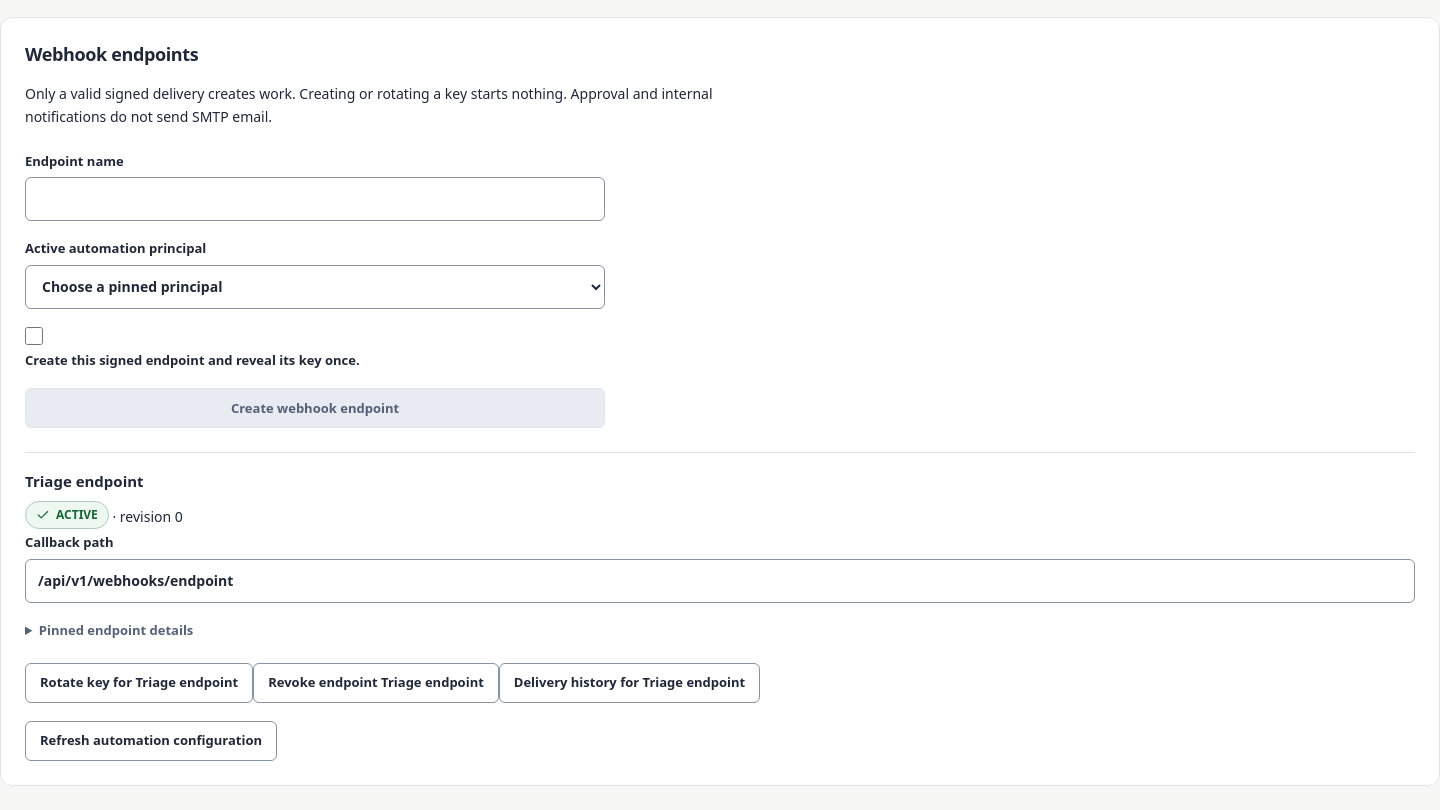
shows safe mutation failure without a key or success claim
(page scrolled)
Expected: the heading "Triage endpoint" is shown, [25,472,144,492]
Step 1. Click the button "Rotate key for Triage endpoint" → click(139, 683), box [25,663,253,703]
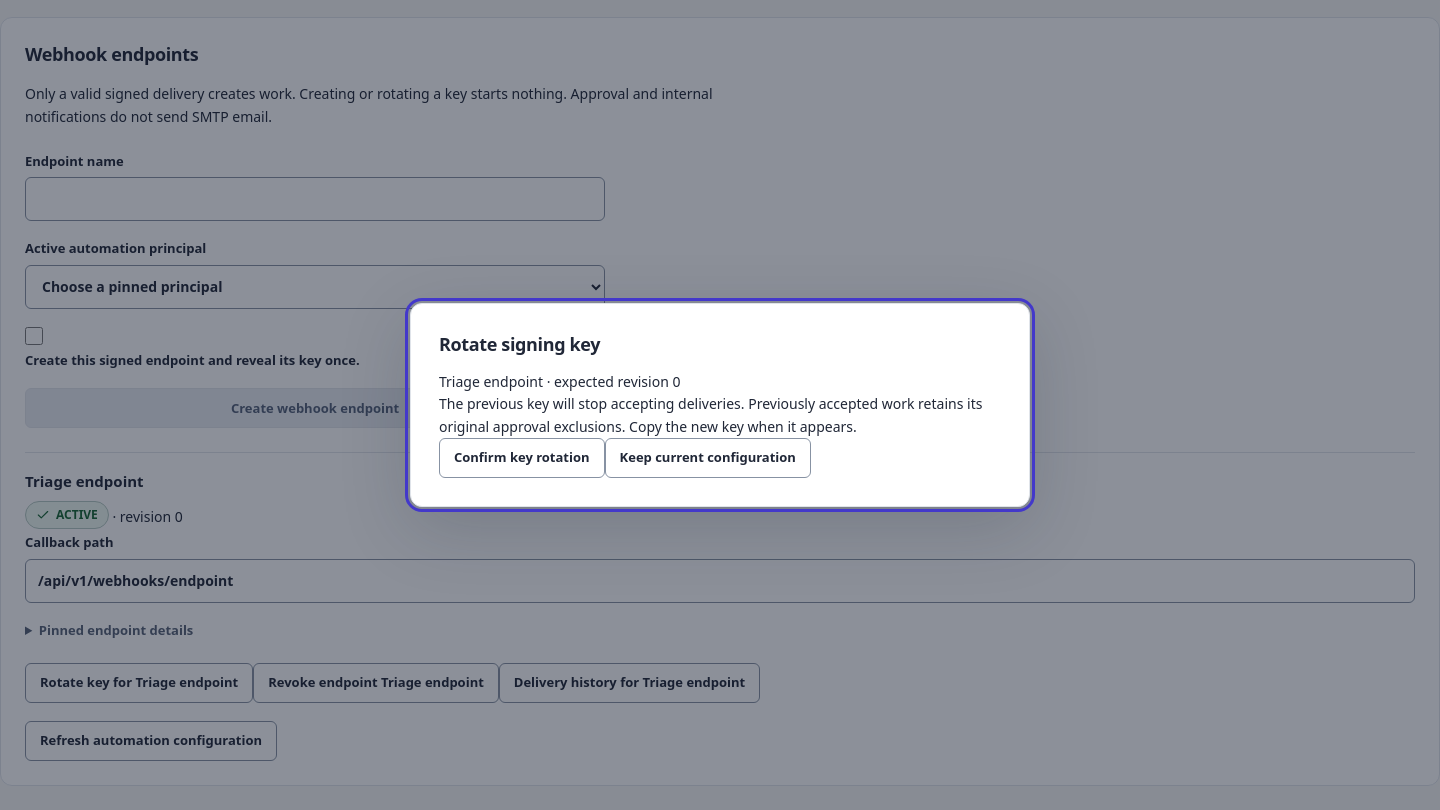
Step 2. Click the button "Confirm key rotation" → click(522, 458), box [439,438,605,478]
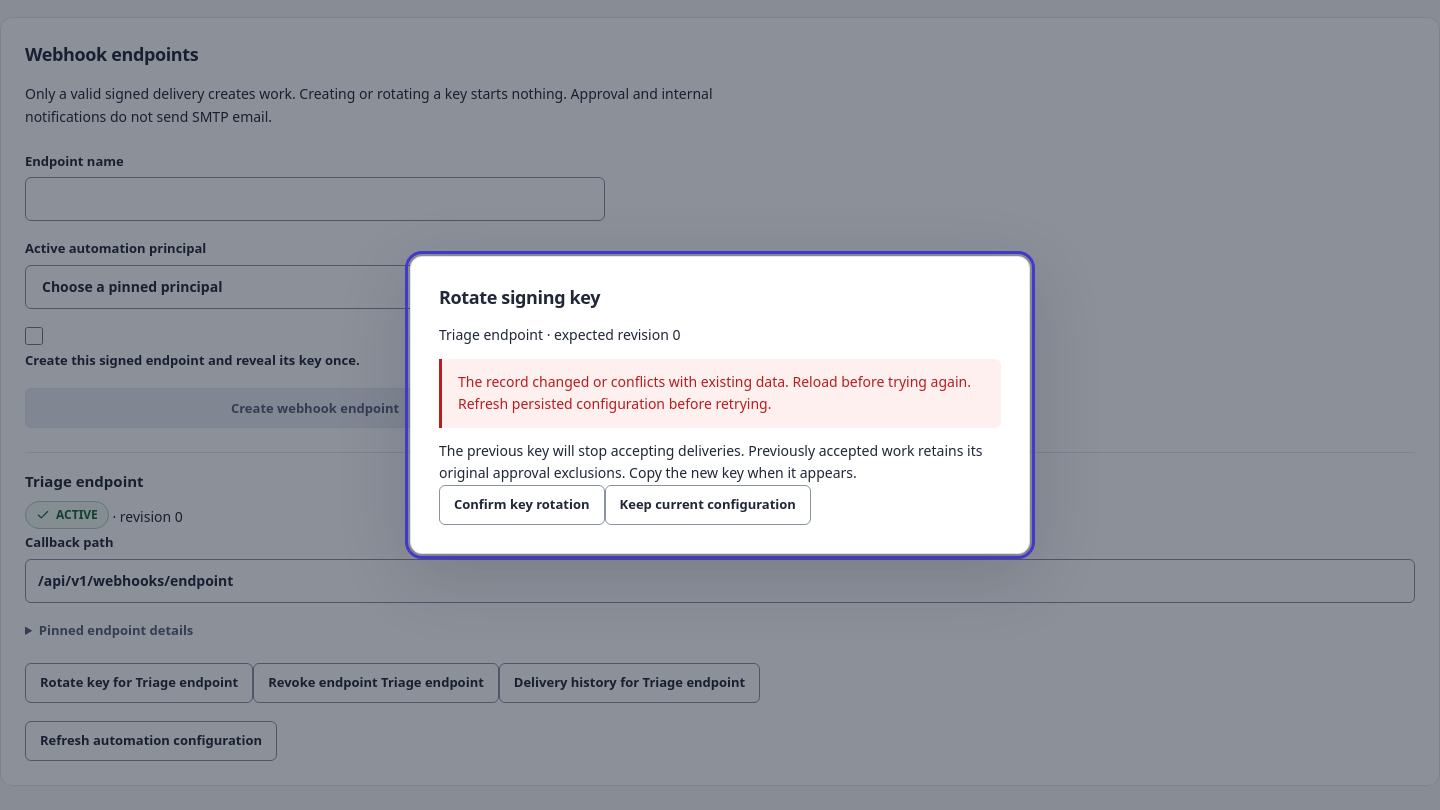
Result: the message is shown at [439,359,1001,428]
